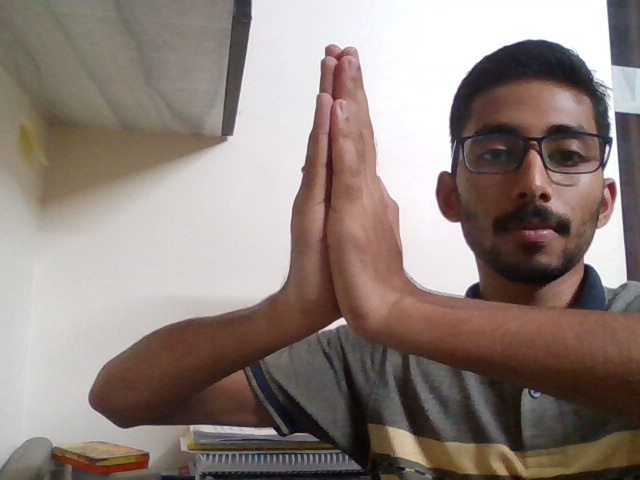Thank You: (223, 38, 435, 376)
